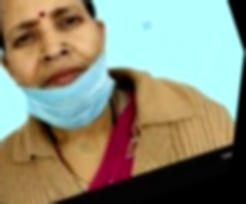mask_weared_incorrect: (2, 1, 108, 129)
